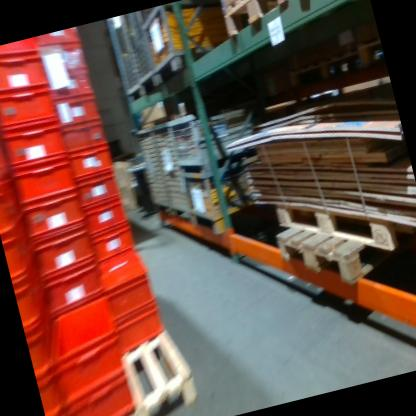pallet: (40, 316, 206, 416), (272, 174, 409, 277), (270, 202, 382, 299), (218, 0, 304, 38)
small_load_carrier: (38, 292, 134, 411), (94, 243, 161, 322), (38, 261, 106, 319), (18, 192, 88, 246), (112, 301, 171, 362), (10, 156, 79, 208), (1, 120, 69, 171), (0, 82, 61, 135), (61, 374, 135, 416), (28, 231, 95, 276), (10, 264, 46, 335), (86, 221, 140, 268), (0, 223, 37, 284), (46, 64, 95, 108), (0, 49, 47, 94), (82, 198, 130, 240), (68, 145, 116, 184), (41, 41, 87, 80), (75, 175, 122, 209), (62, 121, 109, 155), (0, 178, 27, 233), (56, 98, 100, 131), (25, 329, 55, 375), (36, 371, 66, 416), (38, 27, 80, 51), (0, 37, 41, 61), (0, 133, 12, 180)
stillage: (179, 148, 281, 242), (138, 0, 237, 88), (163, 96, 265, 175), (120, 8, 177, 99), (152, 121, 196, 227), (132, 125, 174, 221), (103, 16, 145, 105)
